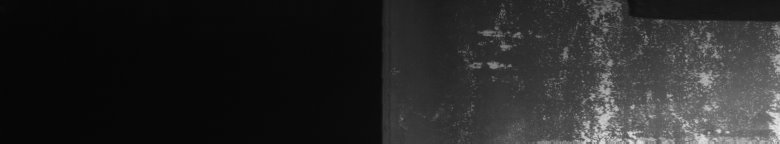kb: (458, 4, 776, 136)
